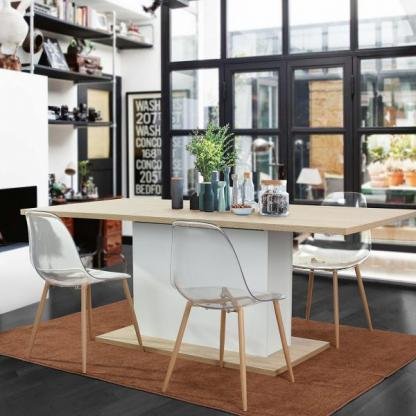chair: (164, 218, 294, 410), (19, 204, 147, 375), (294, 188, 378, 349)
